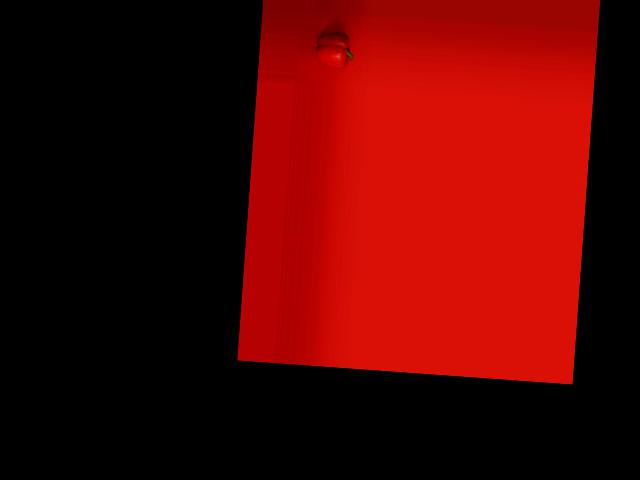bell_pepper: (312, 29, 356, 68)
